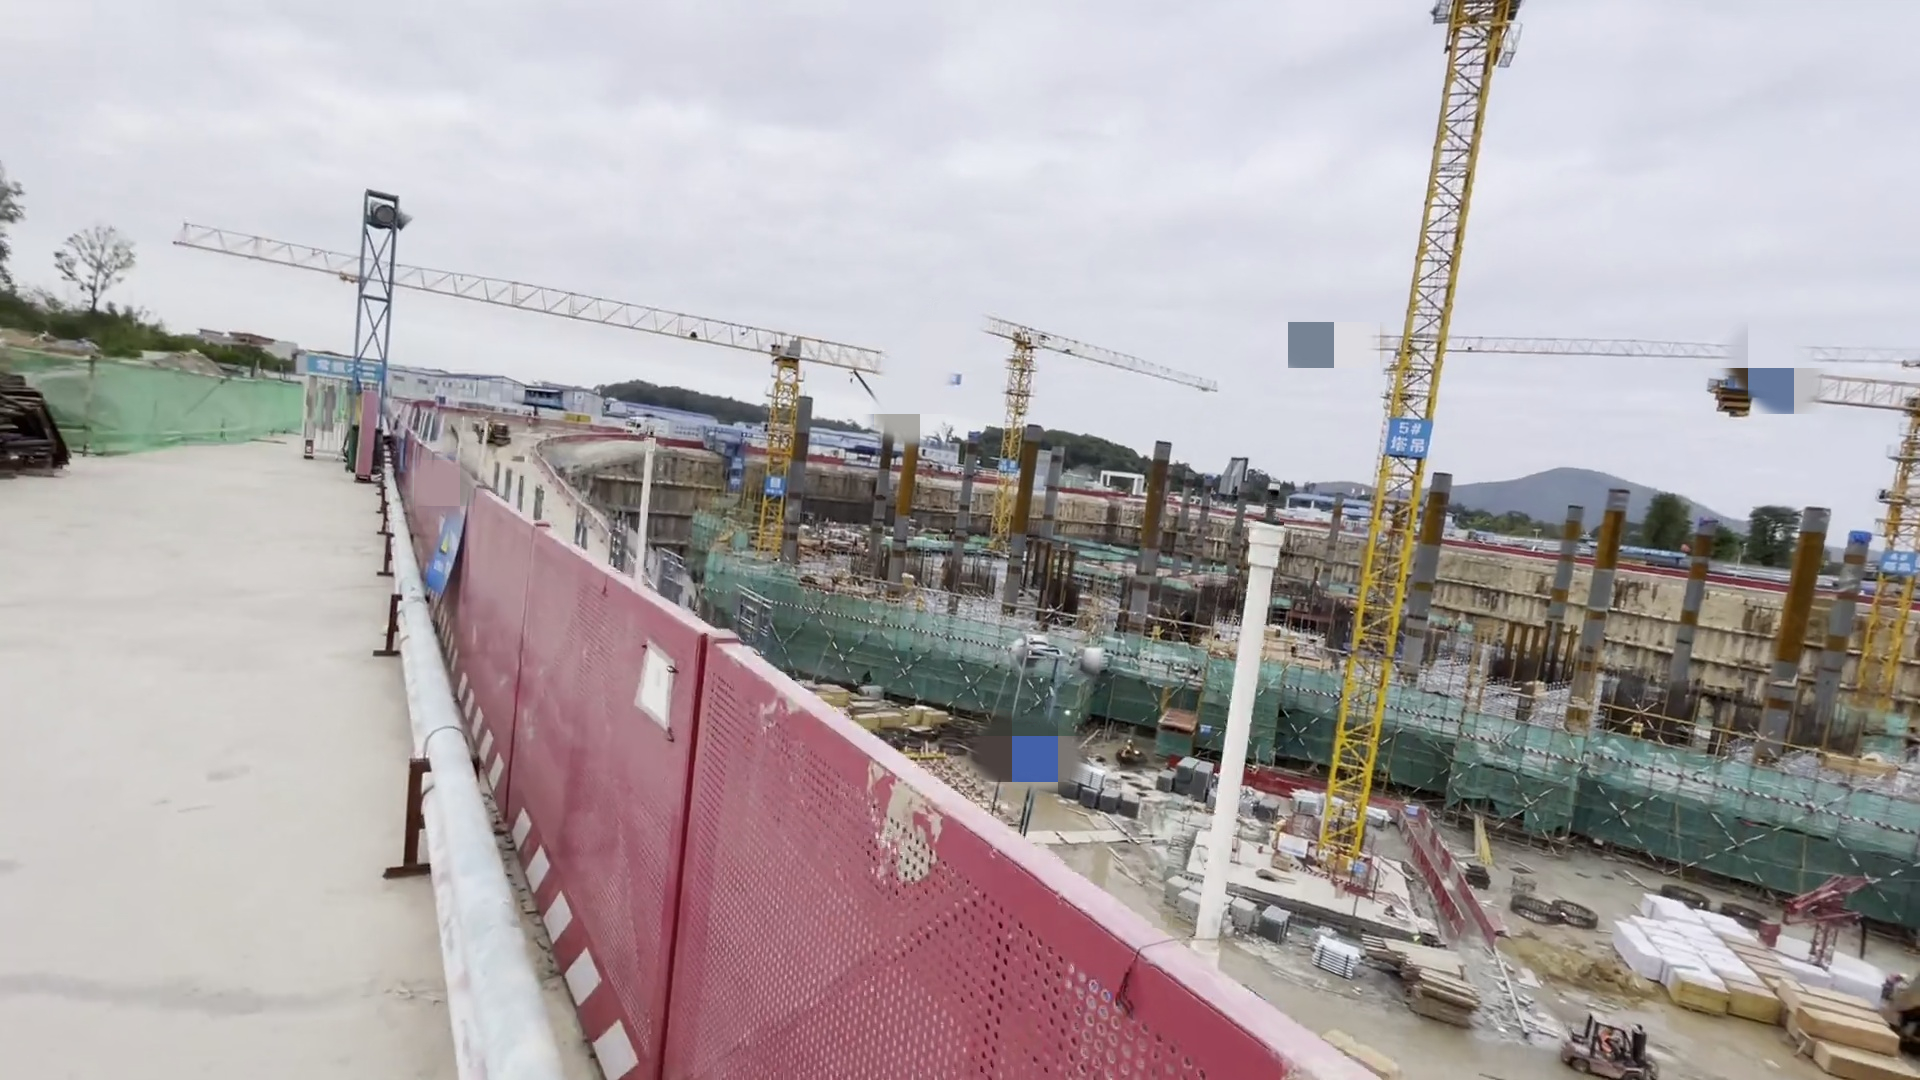board: (1658, 902, 1909, 1080)
fence: (1386, 794, 1505, 962)
person: (1583, 1006, 1622, 1068)
scaffold: (1303, 937, 1368, 981)
slogan: (412, 488, 468, 610), (1377, 409, 1440, 459), (302, 343, 383, 379), (722, 451, 746, 504), (759, 471, 793, 504)
vest: (1596, 1033, 1625, 1054)
wood: (1370, 916, 1502, 1048)
